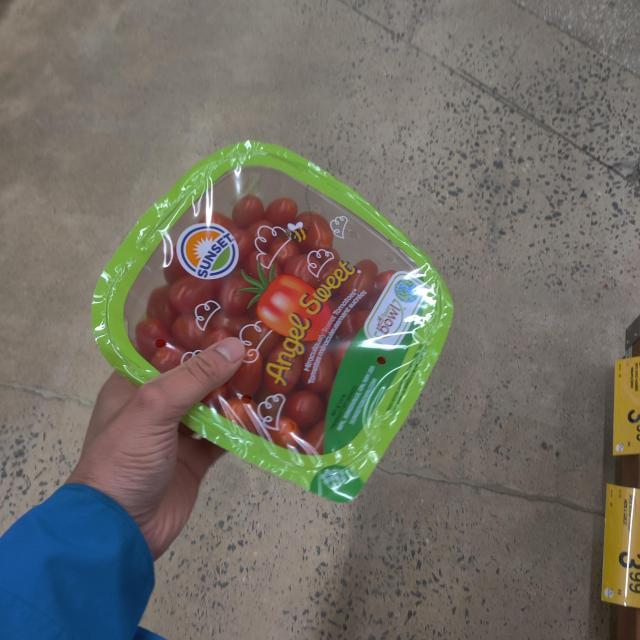tomato: (92, 136, 460, 492)
